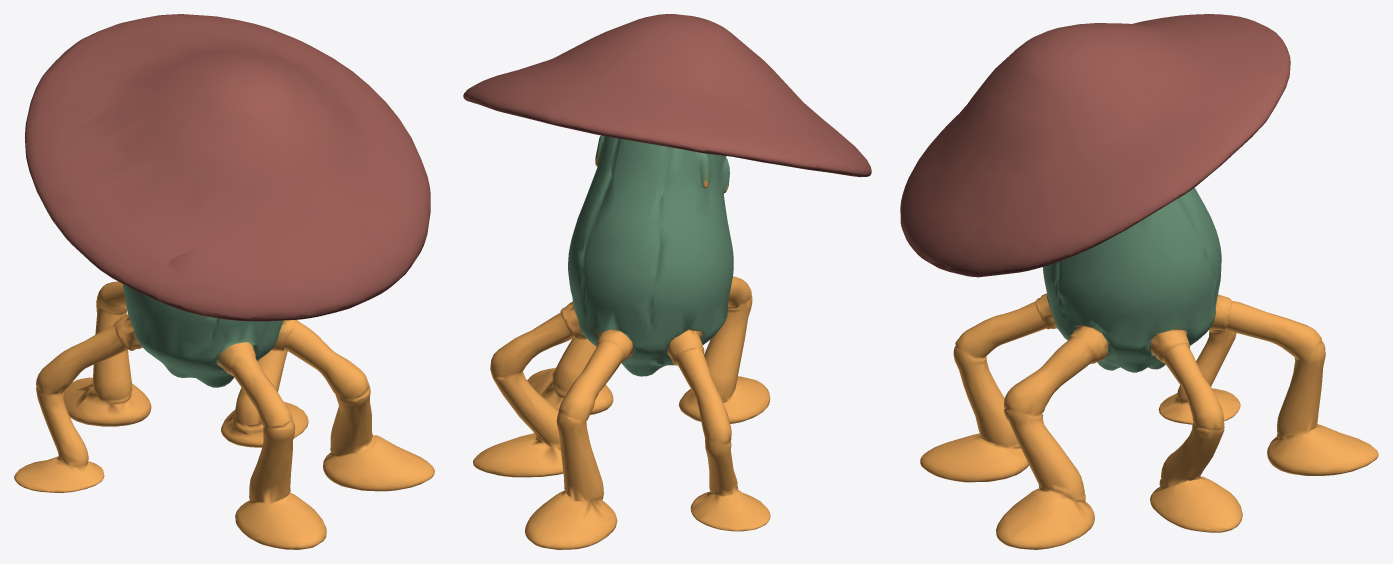
Rendered from rootknot-lod.glb.
The picture shows the model from 3 angles, left to right: view 1: azimuth 30°, elevation 25°; view 2: azimuth 150°, elevation 25°; view 3: azimuth 270°, elevation 25°; orthographic projection. The views are drawn at different scales.
Parts seen in each view (by area): view 1: root knot tripo lod; view 2: root knot tripo lod; view 3: root knot tripo lod.
Part boxes in pixels (x1=…): root knot tripo lod: x1=14, y1=14, x2=434, y2=549; root knot tripo lod: x1=463, y1=14, x2=871, y2=549; root knot tripo lod: x1=900, y1=14, x2=1378, y2=549.
Size of the model in its own units: 2.87 by 3.2 by 3.21.
1 material, 1 textured.
